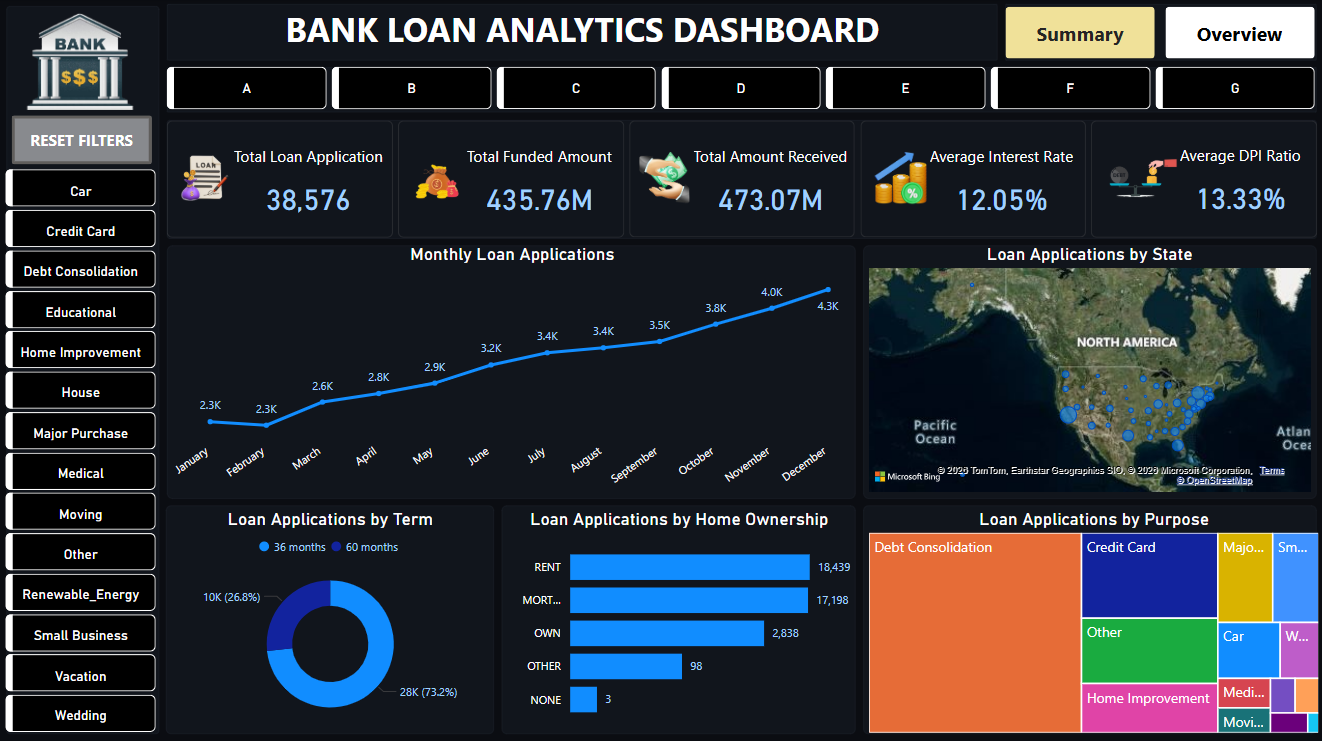

What the dashboard file says about the page in this screenshot:
{"tool":"powerbi","page":{"name":"Overview","canvas":[1280,720],"ordinal":1},"visuals":[{"type":"cardVisual","fields":{"Data":["financial_loan.Total Loan Application","financial_loan.Total Funded Amount","financial_loan.Total Amount Received","financial_loan.Average Interest Rate","financial_loan.Average DPI Rate"]},"box":[158,113.4,1122,123.1],"z":0},{"type":"image","box":[0,9.7,158,103.8],"z":1000},{"type":"advancedSlicerVisual","fields":{"Values":["financial_loan.PURPOSE"]},"box":[2.4,160.5,155.6,559.8],"z":2000},{"type":"advancedSlicerVisual","fields":{"Values":["financial_loan.GRADE"]},"box":[158,61.5,1122,51.9],"z":3000},{"type":"actionButton","box":[13.3,113.4,135.1,47.1],"z":4000},{"type":"textbox","box":[165.3,4,797.5,55],"z":5000},{"type":"pageNavigator","box":[972.4,8,299.2,50],"z":6000},{"type":"lineChart","title":"Monthly Loan Applications","fields":{"Category":["financial_loan.ISSUE_DATE.Variation.Date Hierarchy.Year","financial_loan.ISSUE_DATE.Variation.Date Hierarchy.Quarter","financial_loan.ISSUE_DATE.Variation.Date Hierarchy.Month","financial_loan.ISSUE_DATE.Variation.Date Hierarchy.Day"],"Y":["financial_loan.Total Loan Application"]},"box":[165.3,236.5,662.3,244.9],"z":7000},{"type":"donutChart","title":"Loan Applications by Term","fields":{"Category":["financial_loan.TERM"],"Y":["financial_loan.Total Loan Application"]},"box":[165.3,492.2,311.3,216],"z":8000},{"type":"clusteredBarChart","title":"Loan Applications by Home Ownership","fields":{"Category":["financial_loan.HOME_OWNERSHIP"],"Y":["financial_loan.Total Loan Application"]},"box":[487.4,492.2,340.2,216],"z":9000},{"type":"treemap","title":"Loan Applications by Purpose","fields":{"Group":["financial_loan.PURPOSE"],"Values":["financial_loan.Total Loan Application"]},"box":[836.1,492.2,444,222],"z":10000},{"type":"map","title":"Loan Applications by State","fields":{"Category":["financial_loan.ADDRESS_STATE"],"Size":["financial_loan.Total Loan Application"]},"box":[836.1,236.5,435.5,244.9],"z":11000}]}

Visuals, with their boxes in screenshot pixels (x1, y1, x2, y2), scaled from the page's 1280x720 canvas onto the 1322x741 screenshot:
cardVisual - financial_loan.Total Loan Application x financial_loan.Total Funded Amount: [163, 117, 1321, 243]
image: [0, 10, 163, 117]
advancedSlicerVisual - financial_loan.PURPOSE: [2, 165, 163, 740]
advancedSlicerVisual - financial_loan.GRADE: [163, 63, 1321, 117]
actionButton: [14, 117, 153, 165]
textbox: [171, 4, 994, 61]
pageNavigator: [1004, 8, 1313, 60]
"Monthly Loan Applications" lineChart: [171, 243, 855, 495]
"Loan Applications by Term" donutChart: [171, 507, 492, 729]
"Loan Applications by Home Ownership" clusteredBarChart: [503, 507, 855, 729]
"Loan Applications by Purpose" treemap: [864, 507, 1321, 735]
"Loan Applications by State" map: [864, 243, 1313, 495]
